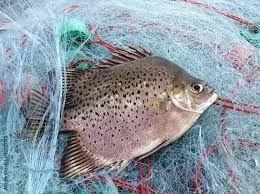Scat Fish: (27, 44, 219, 184)
